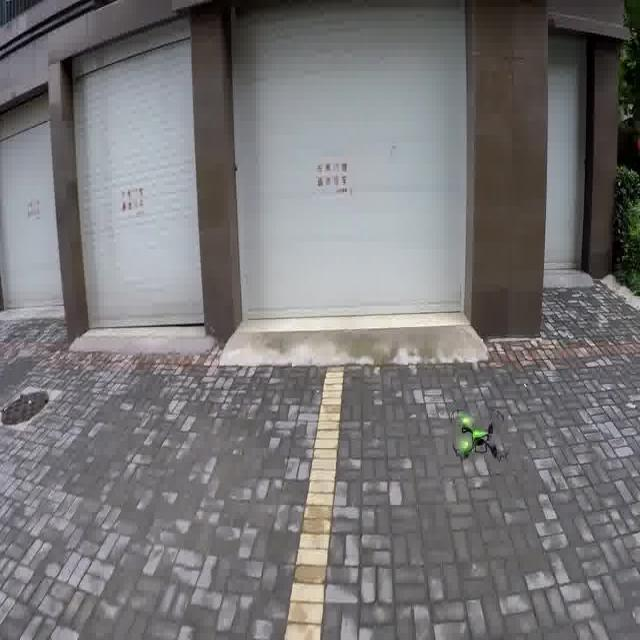drone: (449, 404, 518, 469)
